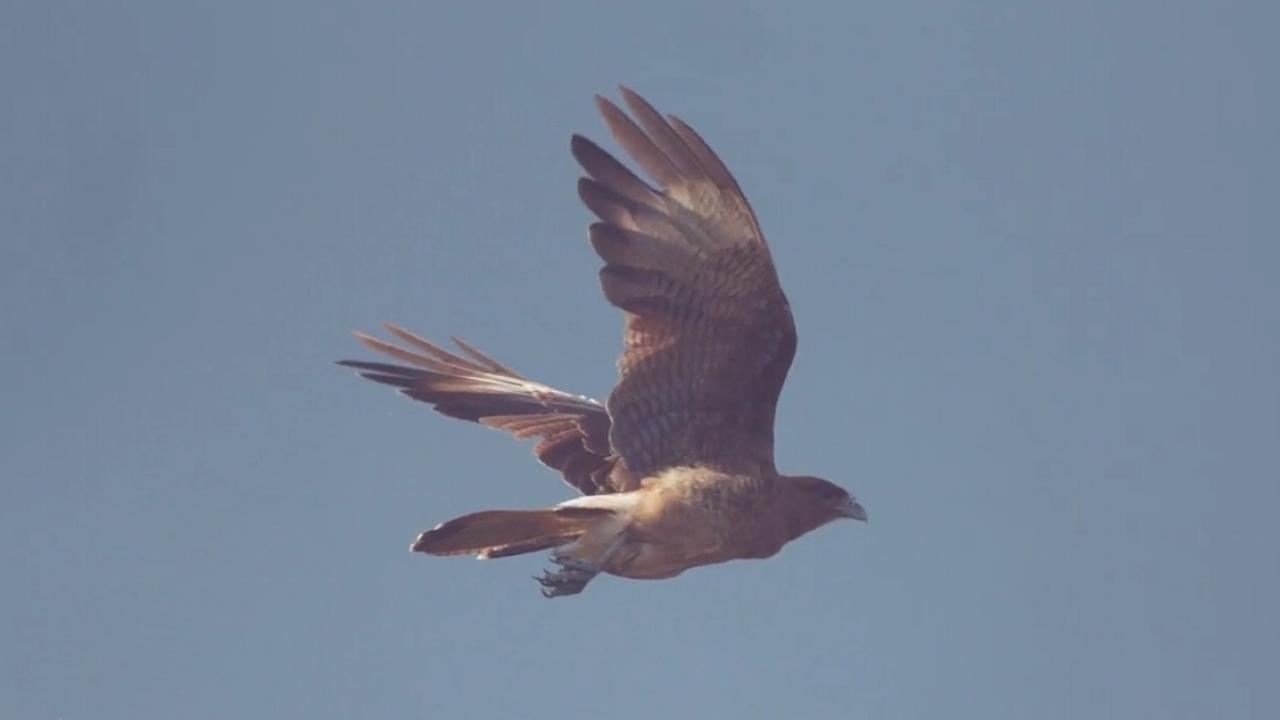Bird: (328, 75, 890, 624)
